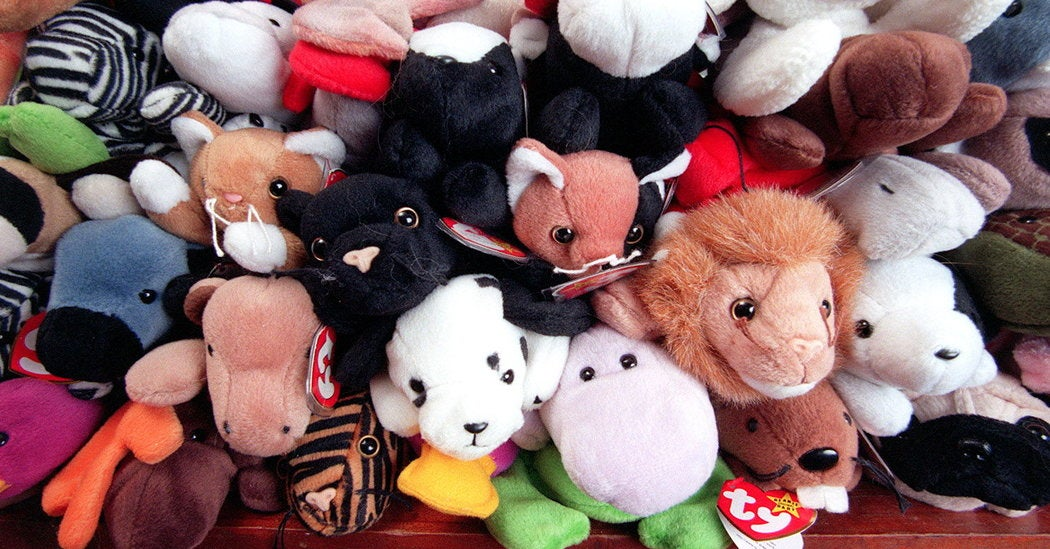toy: (606, 189, 875, 444)
